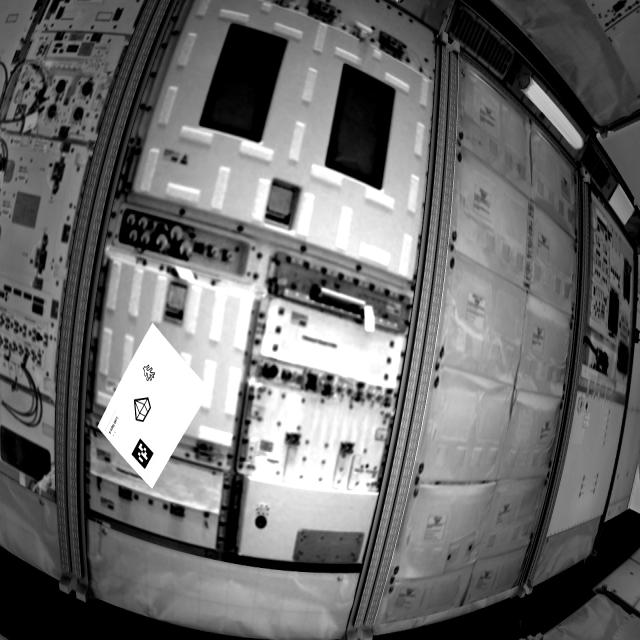coral: (137, 357, 162, 387)
diamond: (126, 395, 161, 428)
